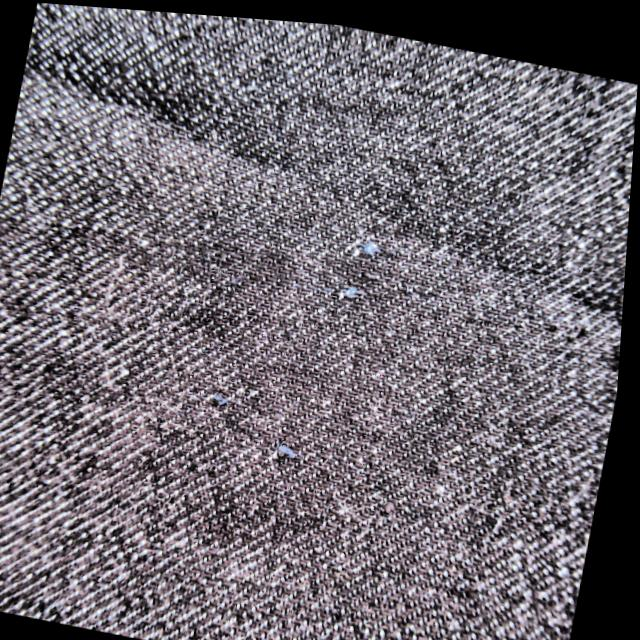Stitch: (195, 361, 251, 437), (263, 410, 317, 476), (322, 265, 380, 312), (347, 223, 391, 263)
